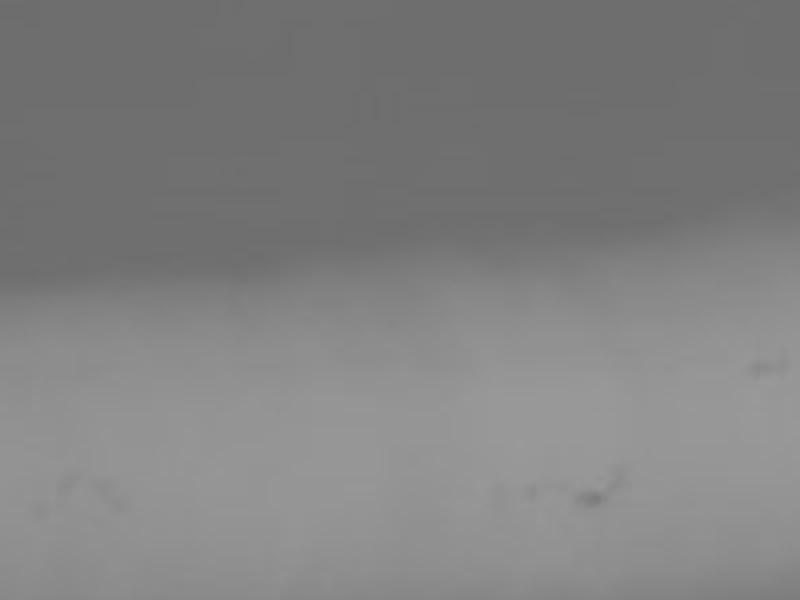defect: (604, 459, 634, 502), (753, 349, 794, 380), (98, 478, 131, 513), (50, 469, 77, 494), (519, 476, 543, 500), (576, 492, 602, 506)
